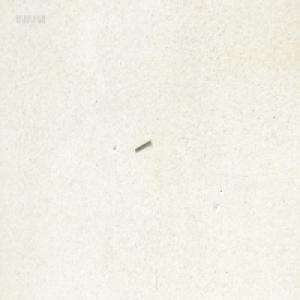Bolt: (134, 137, 151, 151)
